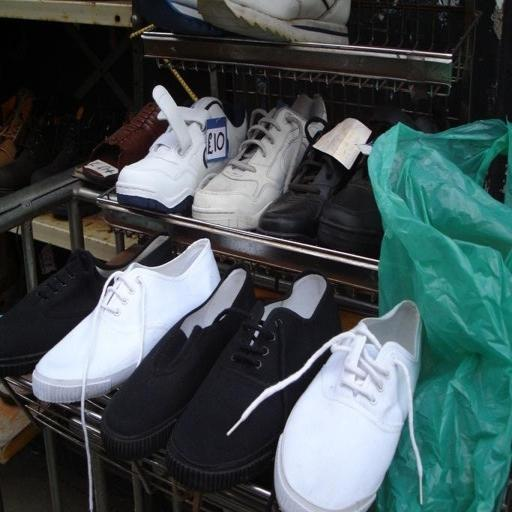shoe: (168, 272, 340, 492), (256, 301, 422, 512), (32, 239, 220, 403), (101, 267, 256, 460), (0, 234, 172, 377), (192, 94, 327, 230), (317, 106, 433, 259), (116, 85, 247, 213), (257, 129, 353, 243), (83, 102, 167, 188), (197, 0, 351, 44), (317, 159, 384, 259), (0, 110, 60, 196), (31, 107, 93, 183), (138, 0, 226, 37), (0, 88, 34, 167)
